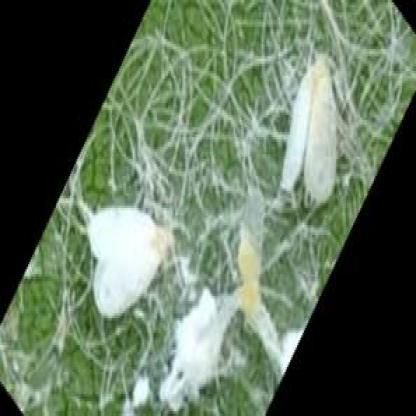whitefly: (87, 206, 175, 316), (280, 55, 336, 205)
